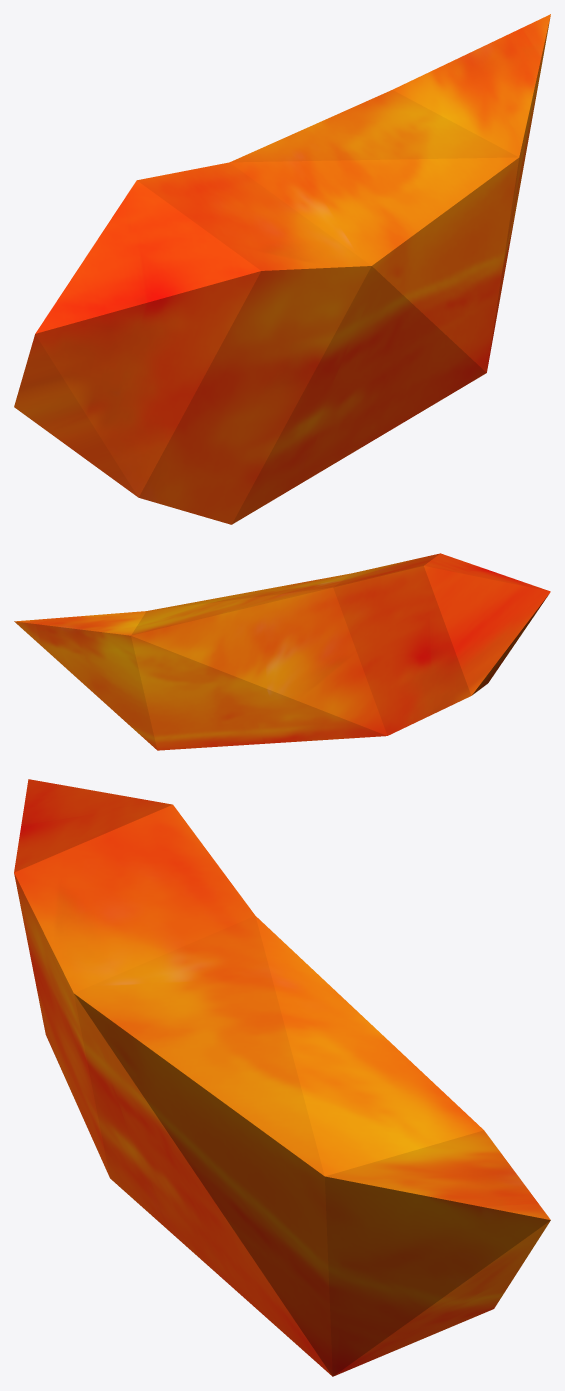
File: Island_2_Tree_1_Leaf_3.gltf
3 views of the same model, one above another, from view 1: azimuth 30°, elevation 25°; view 2: azimuth 150°, elevation 25°; view 3: azimuth 270°, elevation 25° (orthographic). The views are drawn at different scales.
Visible parts, largest first — view 1: Island_2_Tree_1_Leaf_3; view 2: Island_2_Tree_1_Leaf_3; view 3: Island_2_Tree_1_Leaf_3.
Part boxes in pixels (x1,y1,x2,y2): Island_2_Tree_1_Leaf_3: (14, 14, 550, 524); Island_2_Tree_1_Leaf_3: (14, 553, 550, 750); Island_2_Tree_1_Leaf_3: (14, 779, 550, 1376).
Bounding box in the file's own units: 0.8149 × 0.3574 × 0.4831.
Materials: 1 (1 with a texture image).
